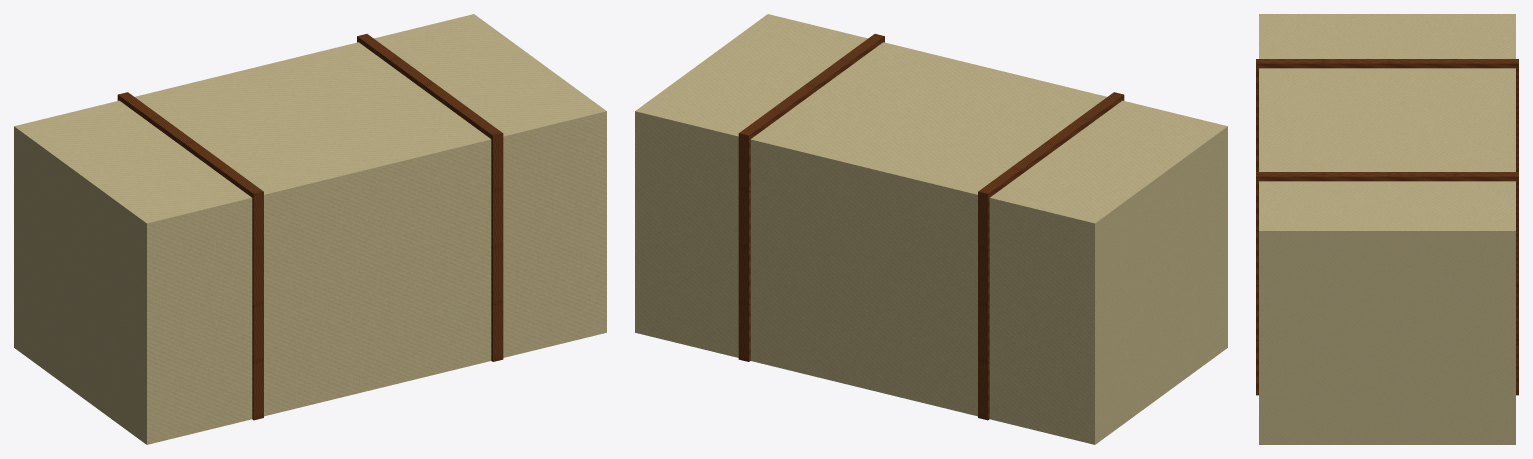
File: farm-and-working-animals-hd-hay-bale-square-b67e1020__29212.glb
The picture shows the model from 3 angles, left to right: view 1: azimuth 30°, elevation 25°; view 2: azimuth 150°, elevation 25°; view 3: azimuth 270°, elevation 25°; orthographic projection. The views are drawn at different scales.
Visible parts, largest first — view 1: hay-bale-square; view 2: hay-bale-square; view 3: hay-bale-square.
Part boxes in pixels (x1,y1,x2,y2): hay-bale-square: (14,14,606,444); hay-bale-square: (635,14,1227,444); hay-bale-square: (1256,14,1518,444).
Size of the model in its own units: 1 by 0.47 by 0.512.
Materials: 2 (2 with a texture image).
